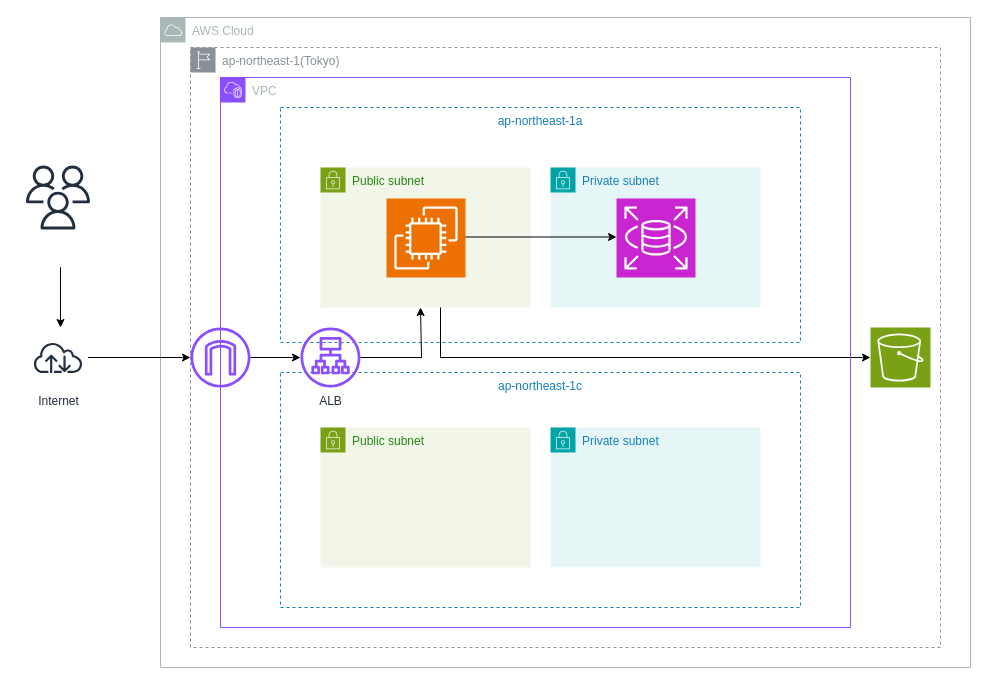
Image size: 988x685. Some labels were removed from this diagram. Each missing label, with the centre of its shape:
"EC2" belongs at (x=426, y=238).
"Interet Gatway" belongs at (x=220, y=357).
"RDS" belongs at (x=656, y=238).
"S3" belongs at (x=900, y=357).
"Users" belongs at (x=57, y=197).
